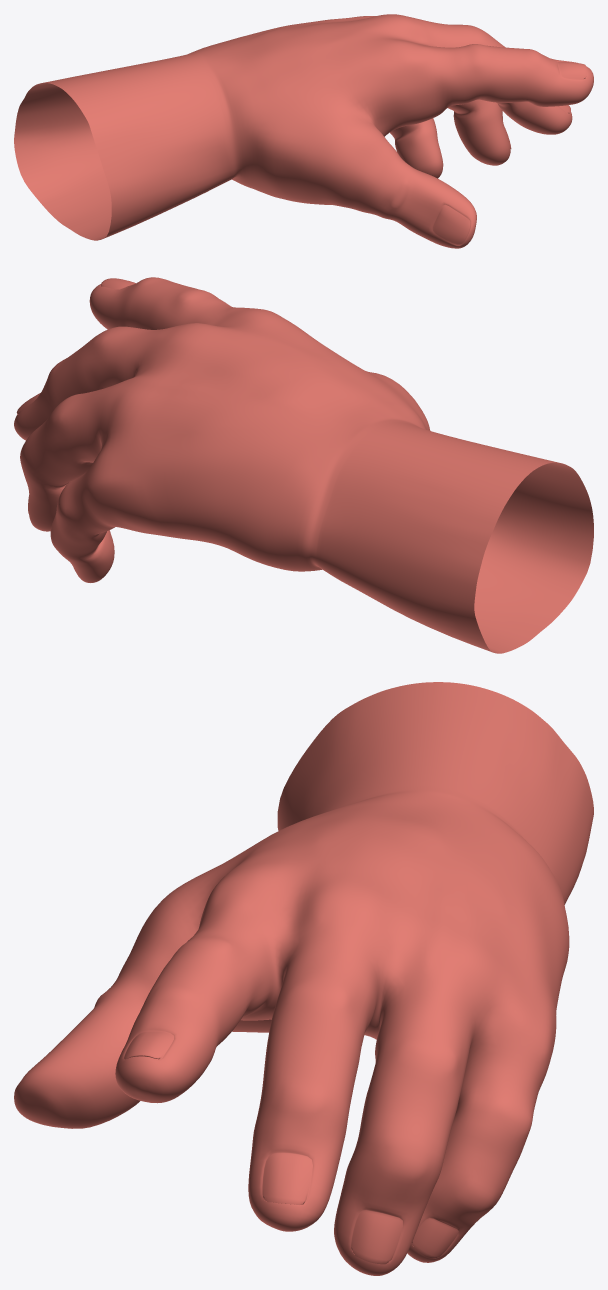
File: hand_geo_04.glb
3 views of the same model, one above another, from view 1: azimuth 30°, elevation 25°; view 2: azimuth 150°, elevation 25°; view 3: azimuth 270°, elevation 25° (orthographic). The views are drawn at different scales.
Parts seen in each view (by area): view 1: L_hand_geo1_L_hand_geo_grp; view 2: L_hand_geo1_L_hand_geo_grp; view 3: L_hand_geo1_L_hand_geo_grp.
Boxes of the visible parts, left/top/right/bottom form: L_hand_geo1_L_hand_geo_grp: left=14, top=14, right=593, bottom=248; L_hand_geo1_L_hand_geo_grp: left=14, top=277, right=593, bottom=653; L_hand_geo1_L_hand_geo_grp: left=14, top=682, right=593, bottom=1275.
Bounding box in the file's own units: 5.16 × 2.12 × 3.42.
